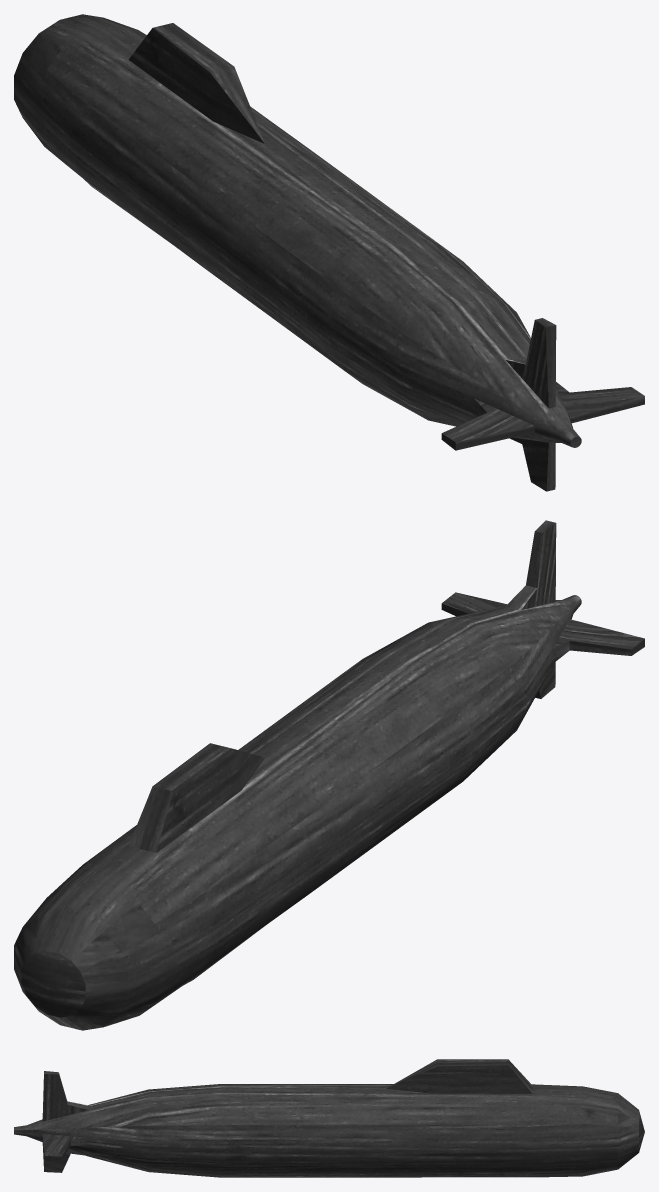
Rendered from Submarine Model.glb.
The picture shows the model from 3 angles, top to bottom: view 1: azimuth 30°, elevation 25°; view 2: azimuth 150°, elevation 25°; view 3: azimuth 270°, elevation 25°; orthographic projection. The views are drawn at different scales.
Visible parts, largest first — view 1: Submarine; view 2: Submarine; view 3: Submarine.
Part boxes in pixels (x1,y1,x2,y2): Submarine: (14,14,644,491); Submarine: (14,520,644,1030); Submarine: (14,1059,644,1177).
Size of what is drawn, in the model's own units: 4.15 by 3.84 by 19.99.
1 material, 1 textured.
